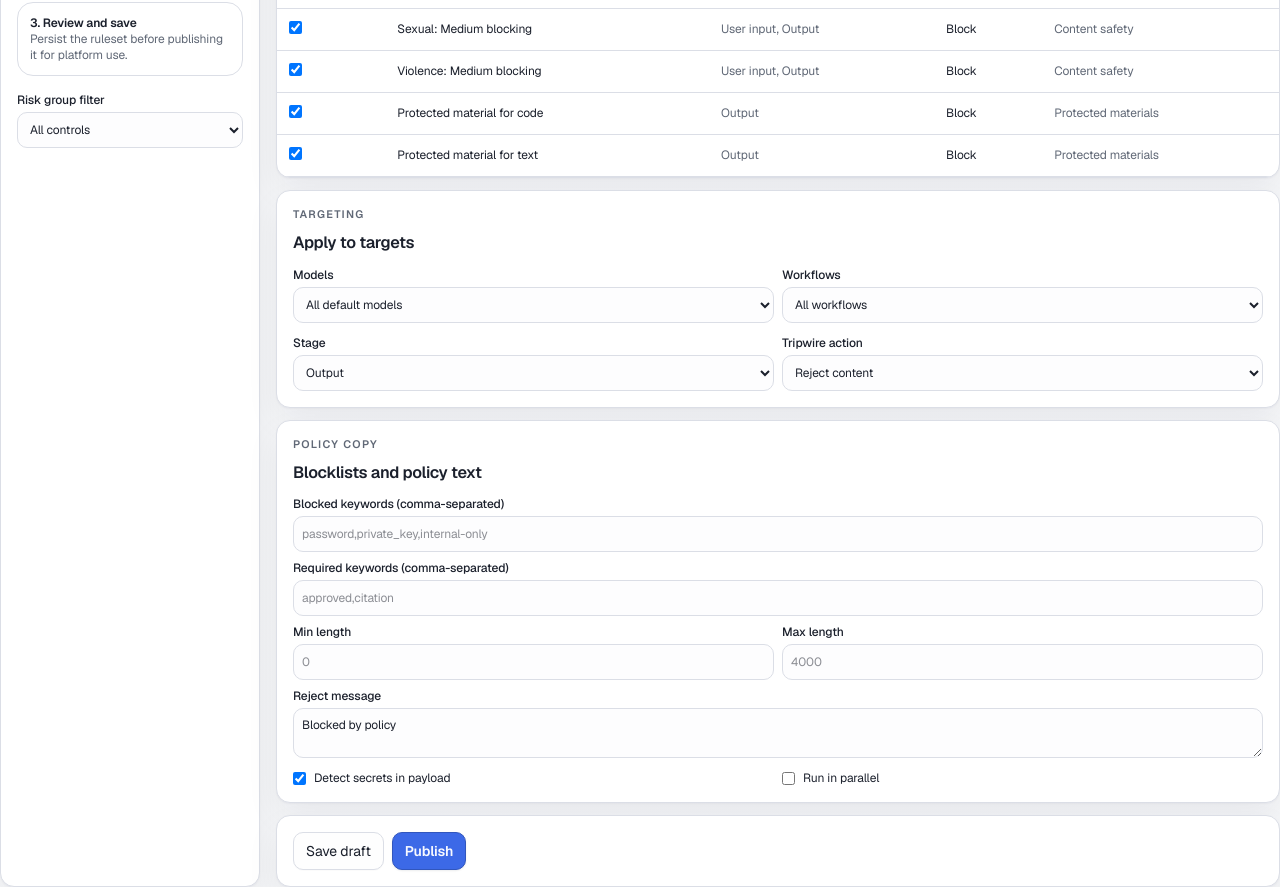
Test: GuardrailEditor › surfaces publish failures for existing guardrail rulesets
(page scrolled)
Click the button "Publish" at (429, 851), box 392,832 -> 466,870
(page scrolled)
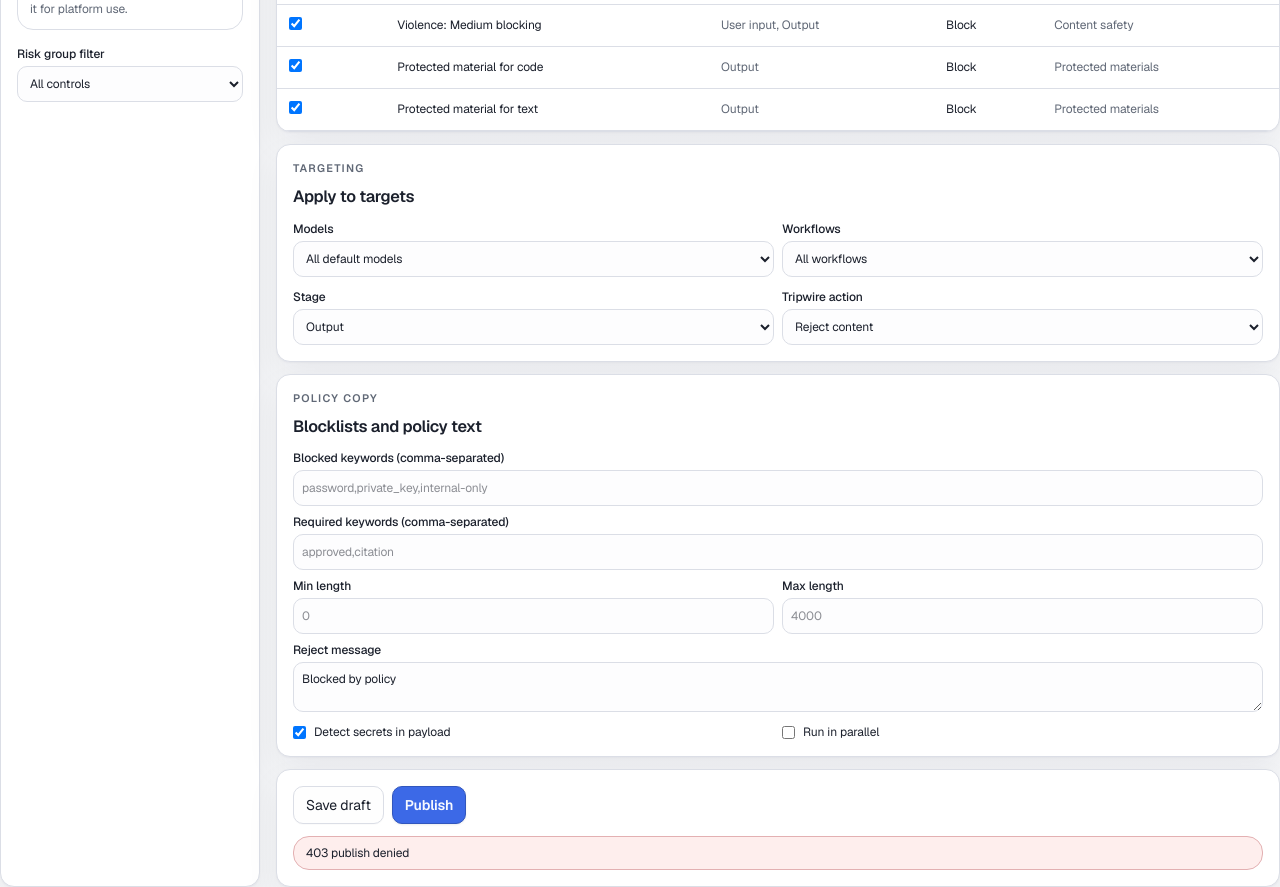
Expected: the text "403 publish denied" is shown, 293,836 -> 1263,870
